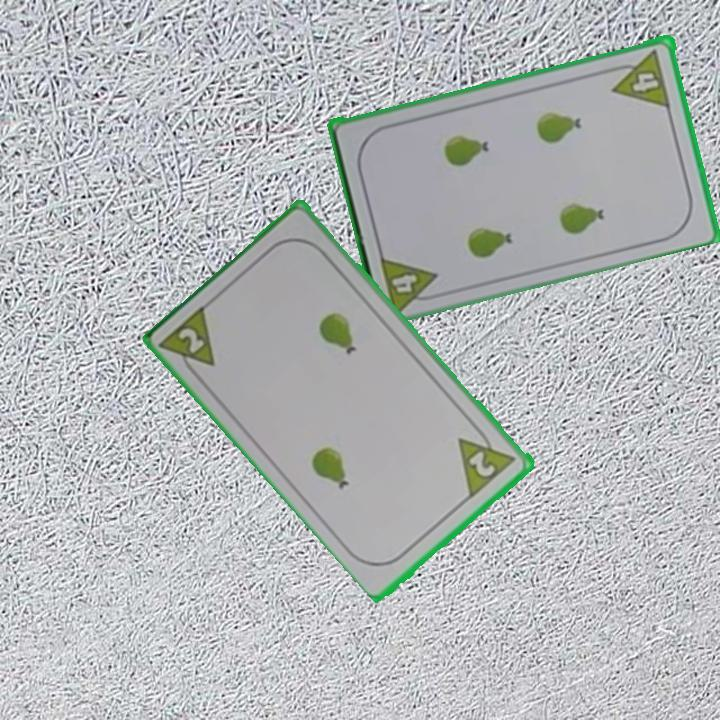2p: (455, 421, 521, 500), (157, 300, 219, 384)
4p: (376, 249, 446, 314), (606, 45, 673, 110)
